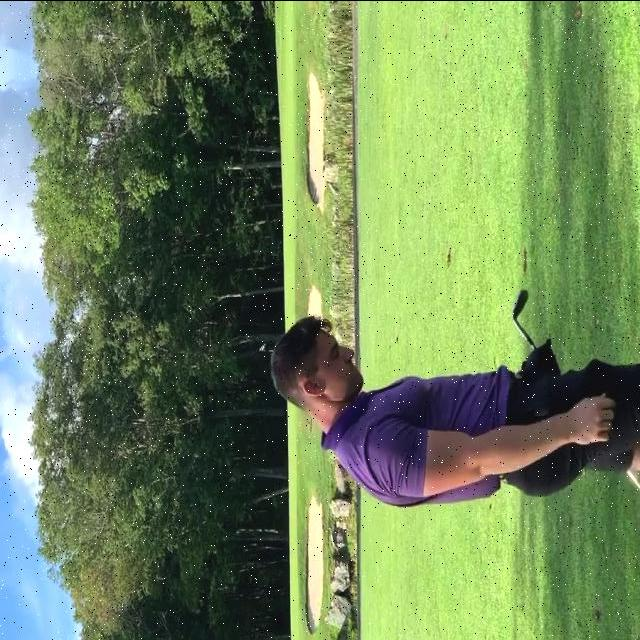golf club-handle: (512, 289, 537, 348)
golf club-head: (512, 289, 528, 317)
